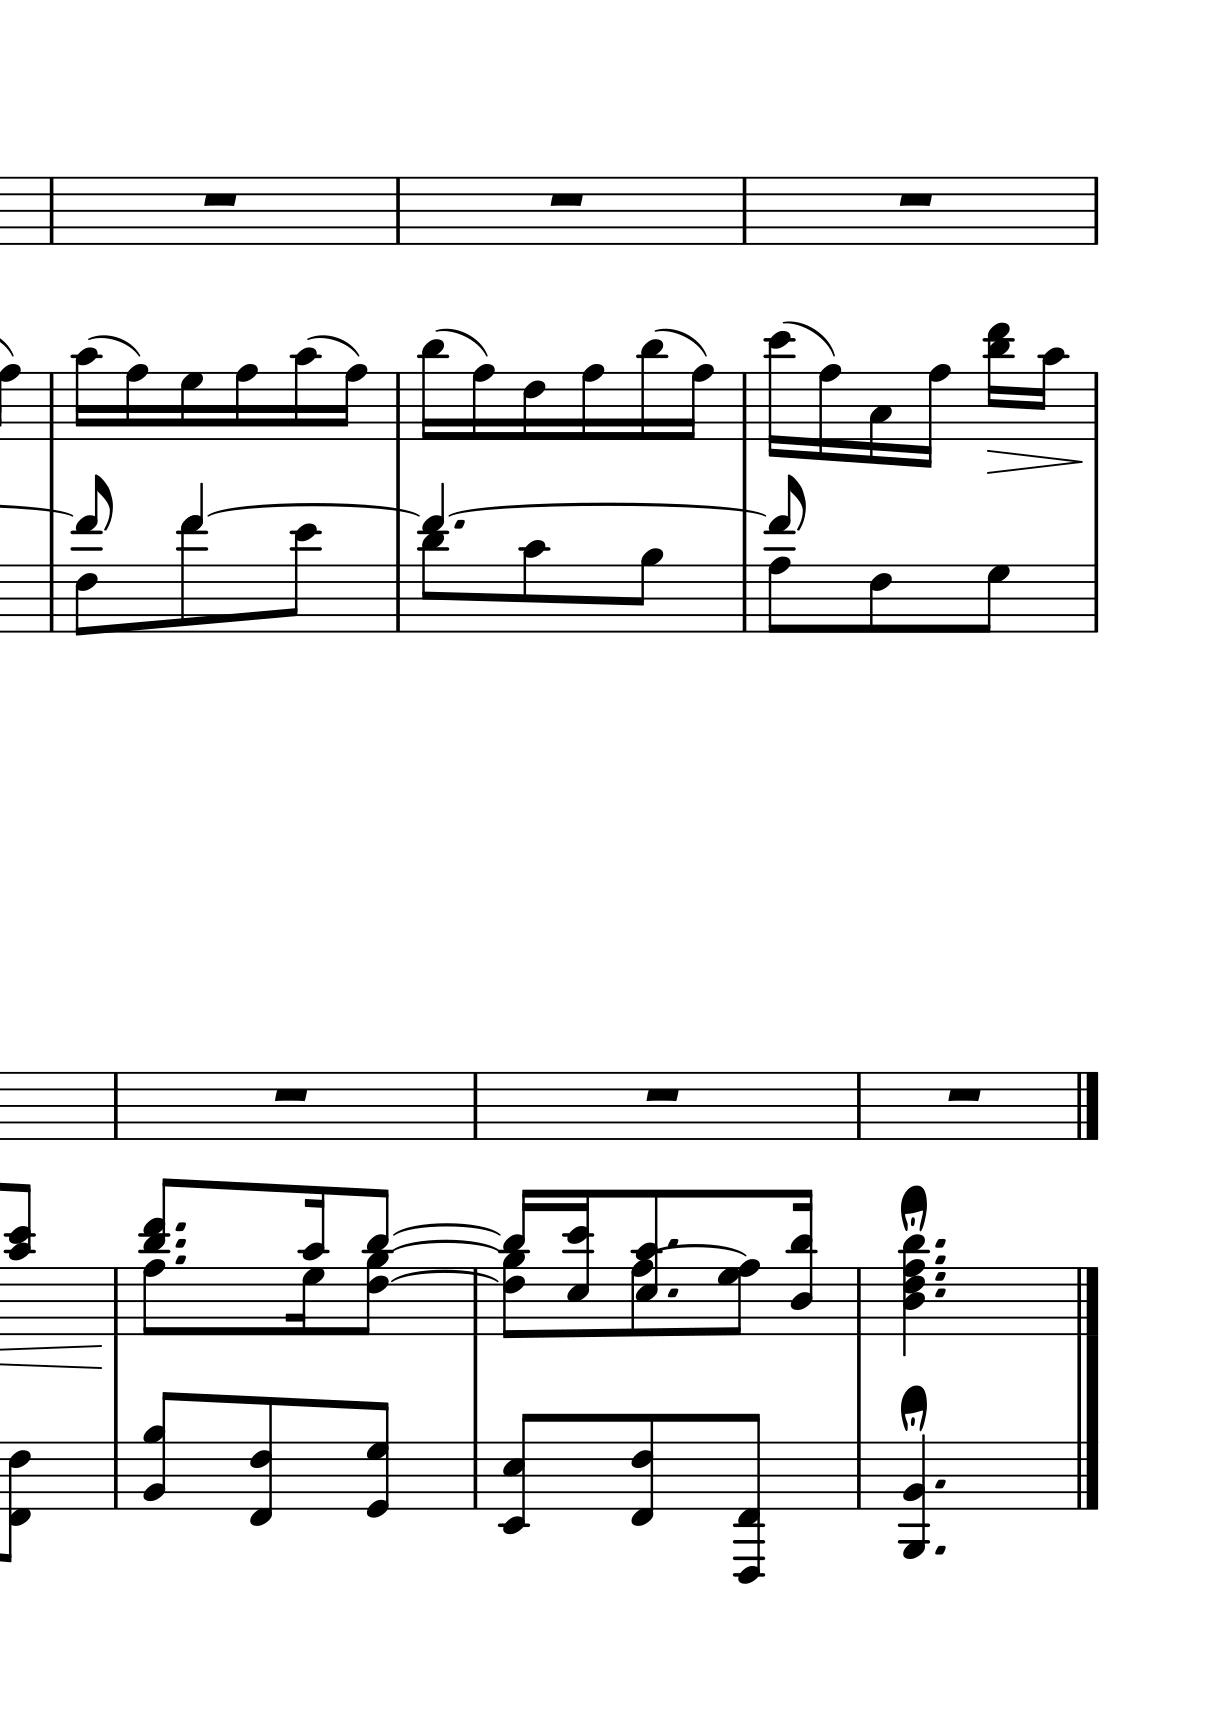16_10: (1033, 347, 1066, 442), (290, 347, 320, 442), (72, 348, 101, 442)
16_11: (417, 337, 446, 442), (637, 337, 666, 441)
16_11_13: (983, 322, 1016, 441)
16_12: (765, 330, 793, 461)
16_3: (866, 370, 893, 467)
16_4_11: (786, 1188, 817, 1338)
16_6: (521, 370, 546, 442)
16_7: (176, 369, 203, 442)
16_7_10: (290, 1183, 330, 1337)
16_8: (912, 362, 950, 471), (677, 362, 713, 441), (333, 362, 368, 441), (815, 362, 841, 463), (122, 362, 148, 442), (469, 362, 495, 442), (579, 362, 605, 442), (232, 362, 257, 442)
4_-5_2: (899, 1435, 931, 1558)
4_4th: (898, 1232, 928, 1356)
8_-1_6: (1, 1440, 33, 1565), (249, 1396, 274, 1528), (630, 1413, 655, 1527)
8_-2_5: (498, 1411, 540, 1537)
8_-8_-1: (733, 1411, 767, 1583)
8_0_7: (365, 1400, 391, 1520)
8_10: (520, 540, 545, 635)
8_12: (282, 523, 319, 635)
8_13: (177, 517, 203, 638)
8_2_9: (140, 1390, 177, 1512)
8_6: (866, 562, 891, 635)
8_6_13: (74, 473, 113, 638)
8_7: (975, 563, 1010, 634)
8_7_8: (715, 1259, 761, 1337)
8_8: (140, 1258, 165, 1338)
8_8_13: (761, 473, 807, 633)
8_9: (629, 546, 662, 635)
Diminuendo_hairpin: (985, 450, 1080, 473)
Final_barline: (1071, 1266, 1101, 1334), (1073, 1071, 1101, 1140), (1071, 1442, 1100, 1510)
Rests1: (894, 189, 937, 210), (943, 1084, 986, 1105), (198, 189, 240, 210), (641, 1084, 683, 1105), (545, 189, 587, 209), (269, 1084, 311, 1104)
Single_barline: (467, 1272, 488, 1337), (389, 373, 408, 441), (41, 373, 60, 440), (389, 565, 408, 632), (735, 565, 755, 632), (465, 1073, 484, 1140), (1086, 177, 1104, 244), (735, 373, 754, 440), (42, 565, 60, 632), (105, 1073, 123, 1140), (1086, 566, 1104, 632), (106, 1268, 125, 1334), (106, 1443, 125, 1509), (466, 1443, 484, 1509), (849, 1073, 866, 1140), (1087, 373, 1104, 439), (849, 1443, 866, 1509), (735, 179, 752, 243), (389, 179, 406, 243), (849, 1270, 866, 1333), (42, 179, 58, 243)
Slur: (449, 502, 764, 513), (207, 502, 417, 519), (786, 319, 832, 357), (389, 1267, 503, 1281), (438, 327, 487, 358), (656, 327, 705, 358), (390, 1237, 505, 1250), (393, 1222, 503, 1235), (310, 333, 358, 358), (91, 333, 139, 357)
dot: (172, 1218, 190, 1264), (171, 1253, 190, 1268), (450, 517, 467, 534), (931, 1543, 949, 1558), (172, 1218, 188, 1235), (933, 1268, 950, 1283), (664, 1285, 680, 1300), (931, 1235, 948, 1249), (932, 1477, 947, 1491), (932, 1253, 948, 1266), (933, 1285, 949, 1298), (666, 1235, 680, 1249)
